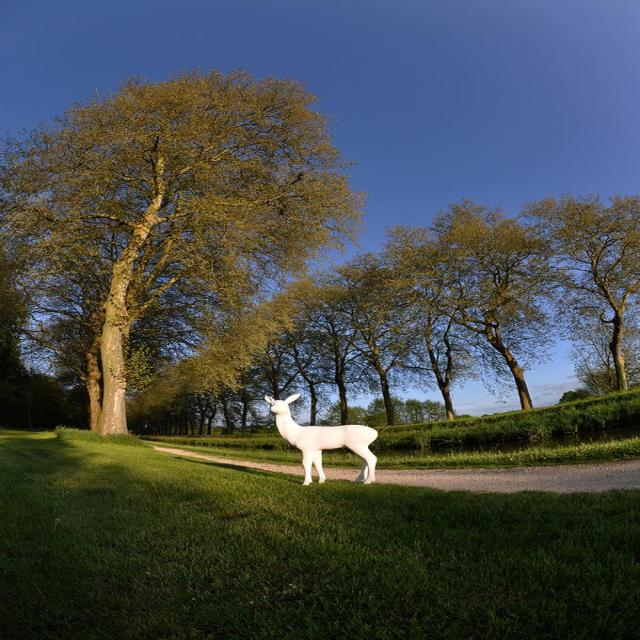Deer: (264, 390, 378, 483)
